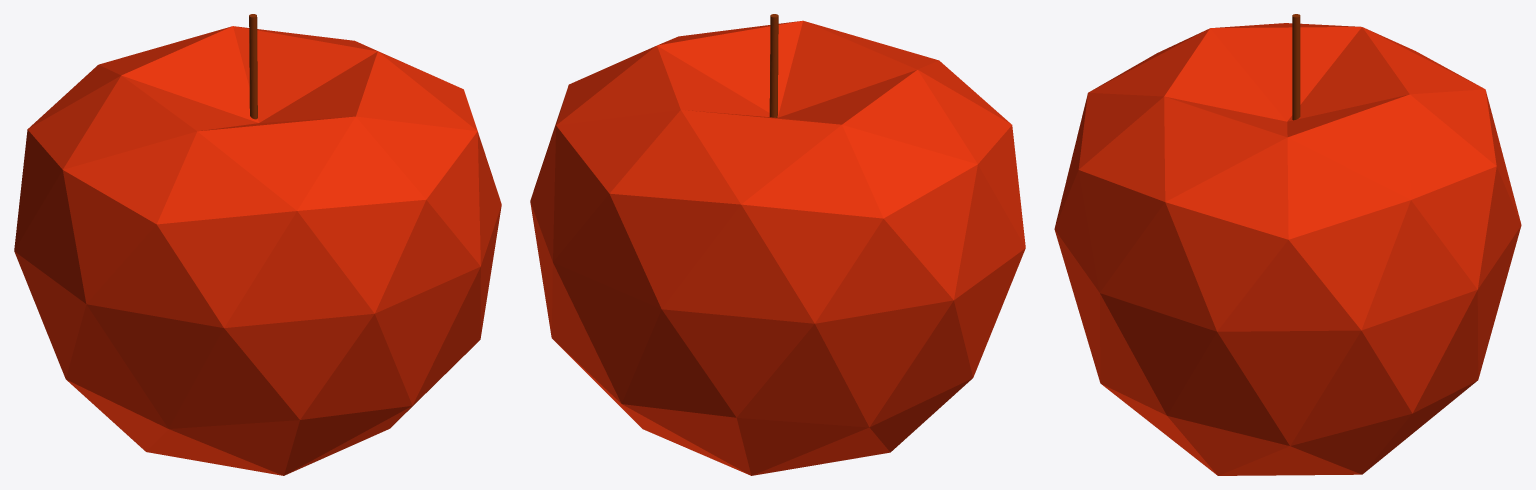
Rendered from apple2.glb.
The picture shows the model from 3 angles, left to right: view 1: azimuth 30°, elevation 25°; view 2: azimuth 150°, elevation 25°; view 3: azimuth 270°, elevation 25°; orthographic projection.
Visible parts, largest first — view 1: Icosphere, Cylinder; view 2: Icosphere, Cylinder; view 3: Icosphere, Cylinder.
Part boxes in pixels (<box>): Icosphere: <box>14,26,501,475</box>; Cylinder: <box>249,14,257,119</box>; Icosphere: <box>530,20,1025,475</box>; Cylinder: <box>769,14,778,117</box>; Icosphere: <box>1054,23,1521,475</box>; Cylinder: <box>1292,14,1300,120</box>.
Size of the model in its own units: 1.2 by 1.13 by 1.16.
